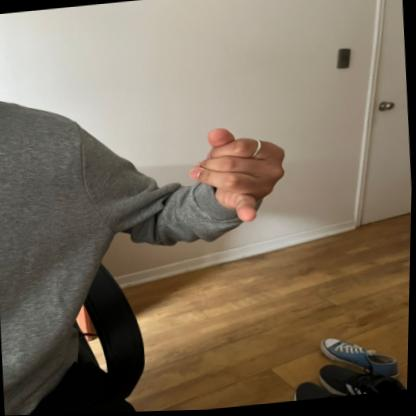Z: (182, 121, 298, 234)
